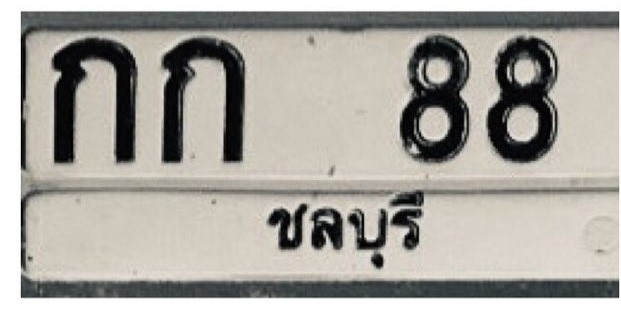txt01: (154, 34, 250, 167), (47, 33, 141, 168)
